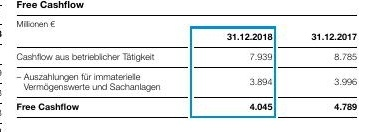table: (0, 0, 372, 132)
